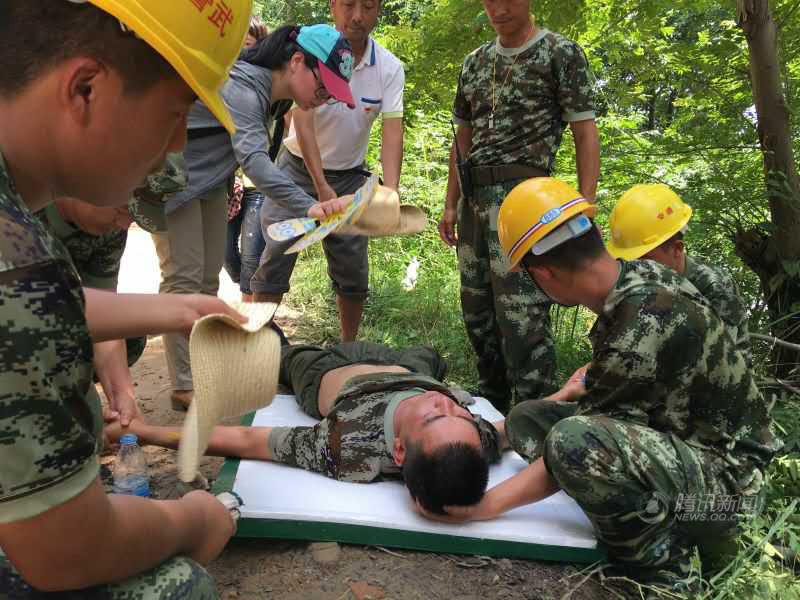fall: (110, 310, 533, 498)
